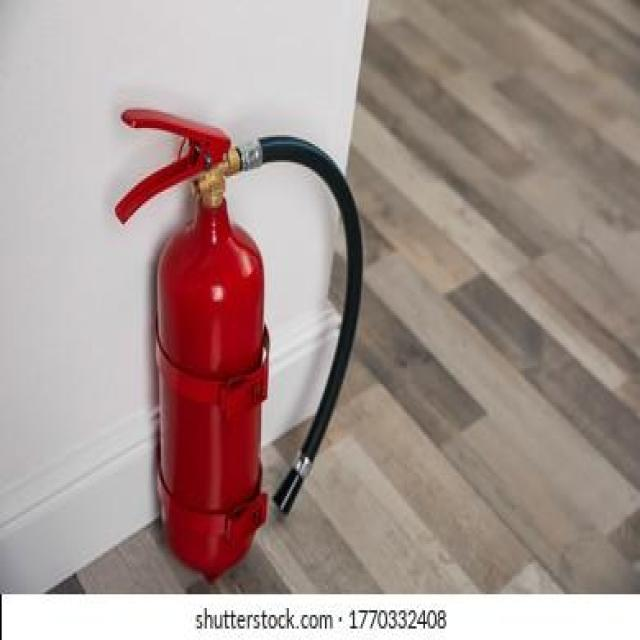fire_extinguisher: (113, 103, 365, 583)
